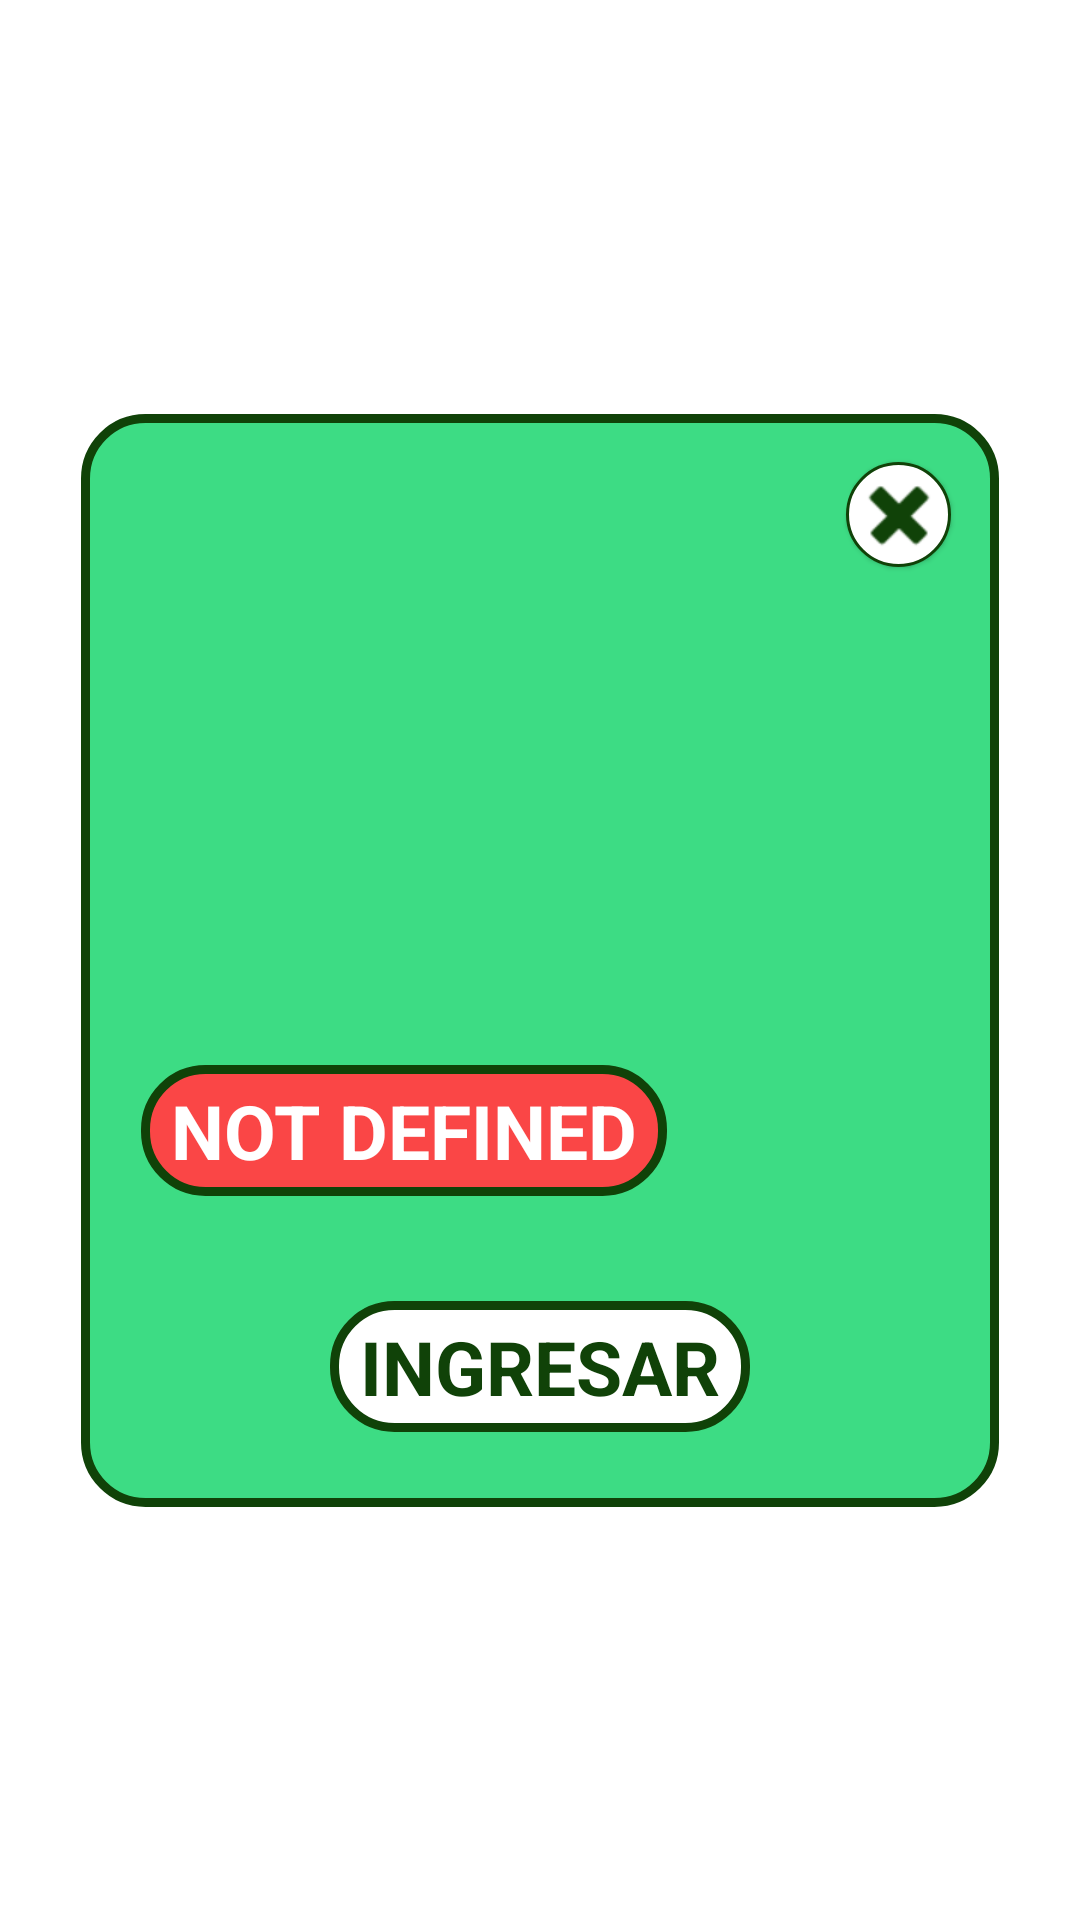

Icon click points for this 1080×1920 phone screenshot, format (x,y):
delete: (898,514)
